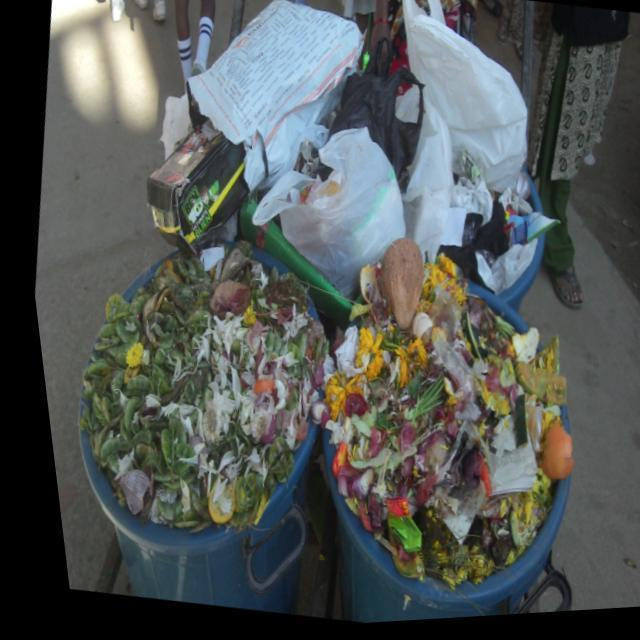Garbage: (69, 0, 560, 604)
Plastic_Bag: (186, 4, 361, 194), (247, 131, 399, 302), (401, 0, 523, 197), (324, 42, 421, 198), (396, 105, 448, 266), (421, 291, 464, 408), (444, 183, 487, 230), (497, 218, 552, 252), (435, 211, 460, 251)
